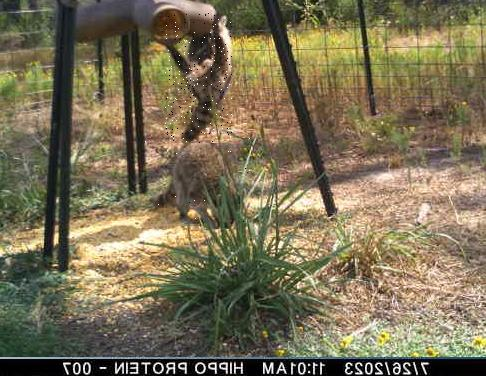Raccoon: (145, 139, 252, 226), (165, 13, 233, 143)
